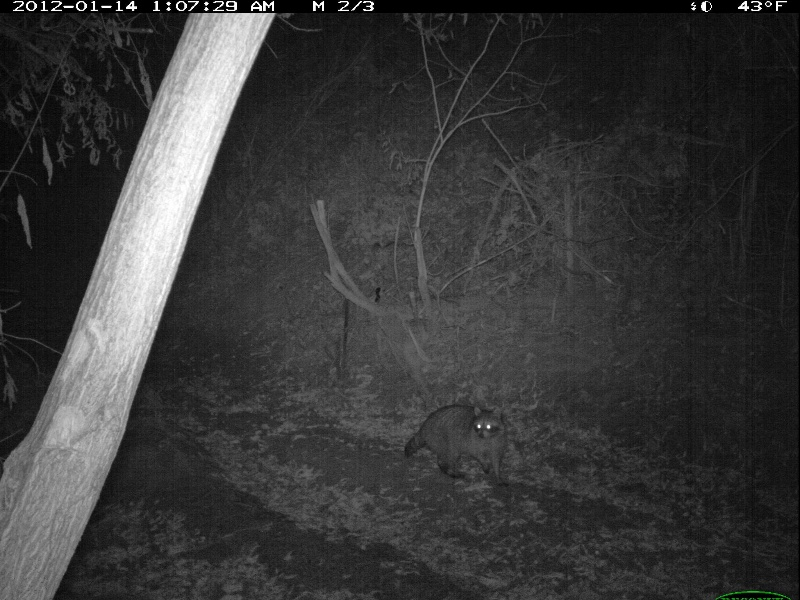raccoon: (403, 398, 507, 489)
